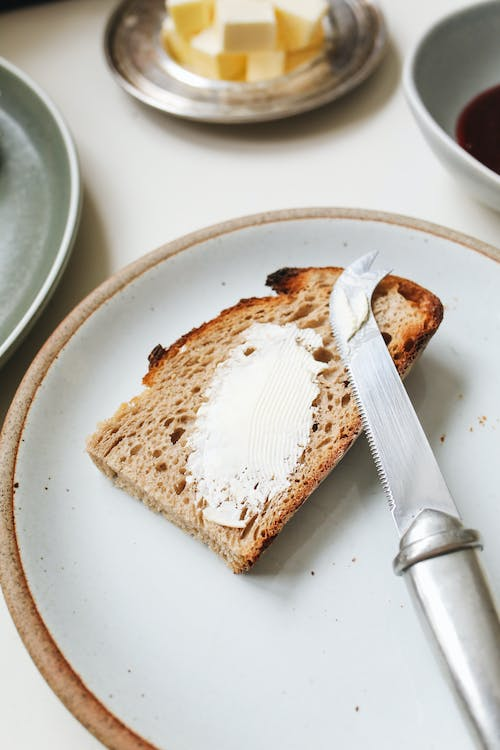knife: (326, 247, 500, 750)
